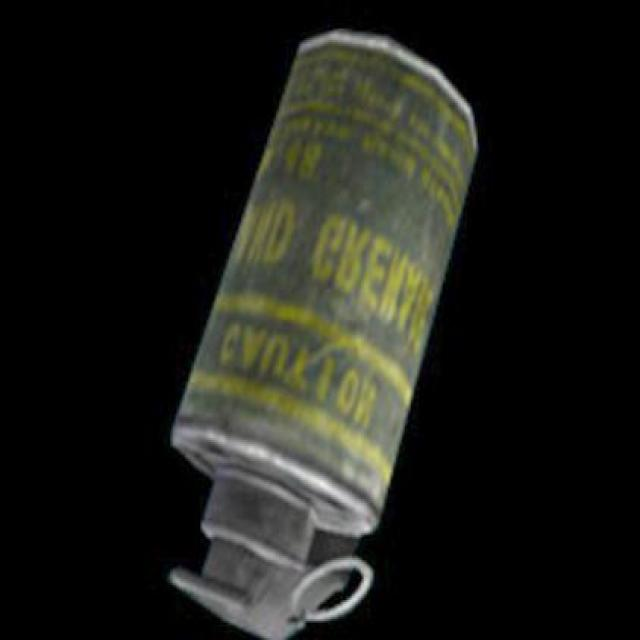grenade: (169, 31, 479, 640)
